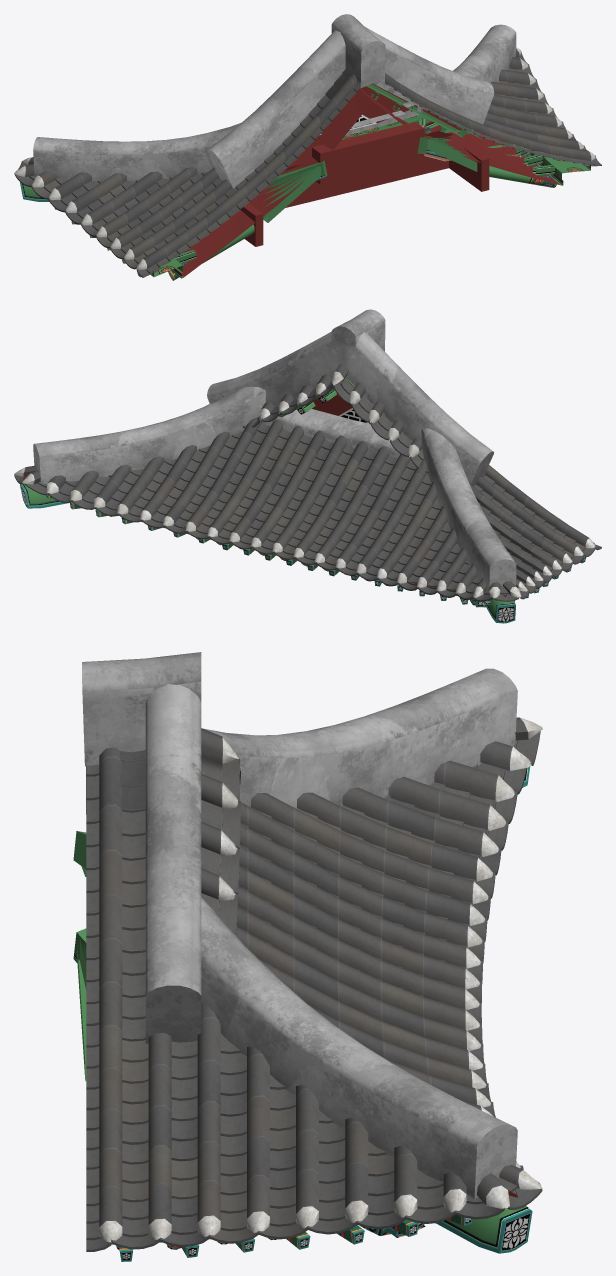
File: SM_Gate_Roof03b.fbx
3 views of the same model, one above another, from view 1: azimuth 30°, elevation 25°; view 2: azimuth 150°, elevation 25°; view 3: azimuth 270°, elevation 25° (orthographic). The views are drawn at different scales.
Parts seen in each view (by area): view 1: SM_Gate_Roof03b; view 2: SM_Gate_Roof03b; view 3: SM_Gate_Roof03b.
Boxes of the visible parts, x1,y1,x2,y2 form: SM_Gate_Roof03b: (14, 14, 601, 280); SM_Gate_Roof03b: (14, 309, 601, 623); SM_Gate_Roof03b: (73, 652, 542, 1261).
Bounding box in the file's own units: 713 × 286 × 277.
2 materials, 2 textured.
